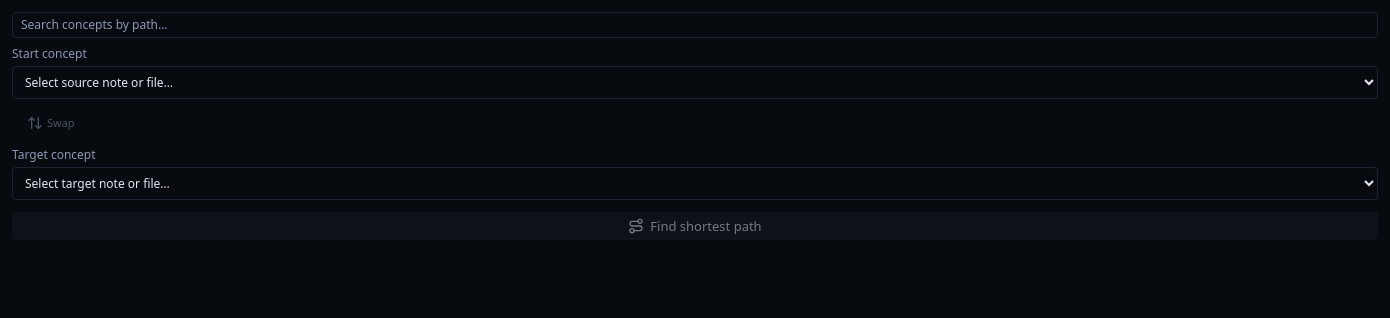
GraphPathfinder › shows empty state when no path connects the concepts
Select "[note] concepts/auth.md" in the dropdown labelled "Start concept" at (695, 82), box [12,66,1378,99]
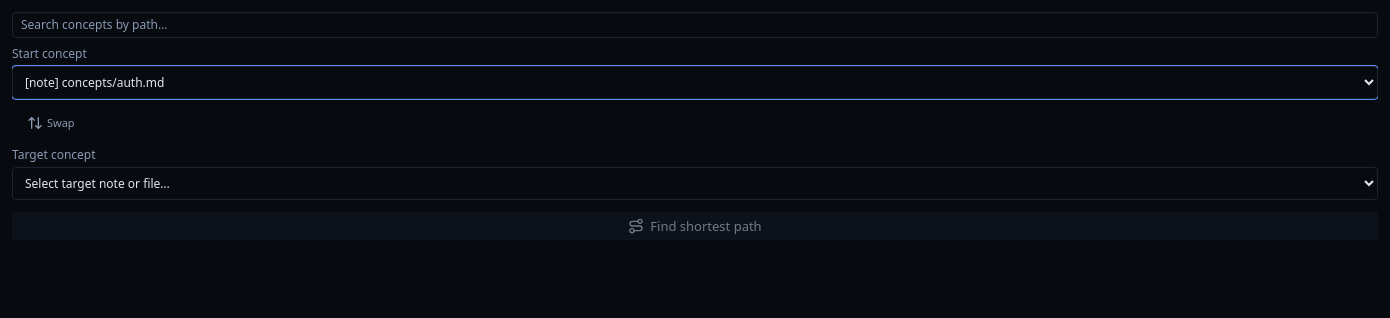
Select "[note] isolated/island.md" in the dropdown labelled "Target concept" at (695, 184), box [12,167,1378,200]
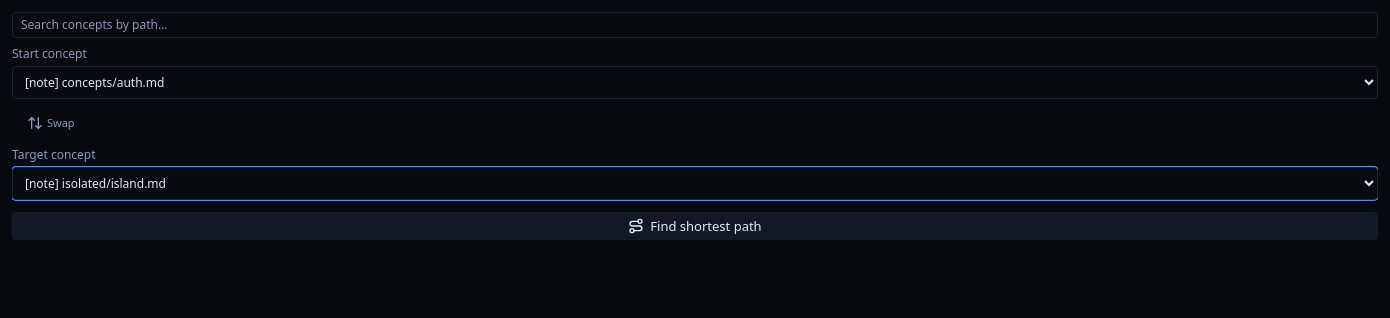
Click the button "Find shortest path" at (695, 226), box [12,212,1378,240]
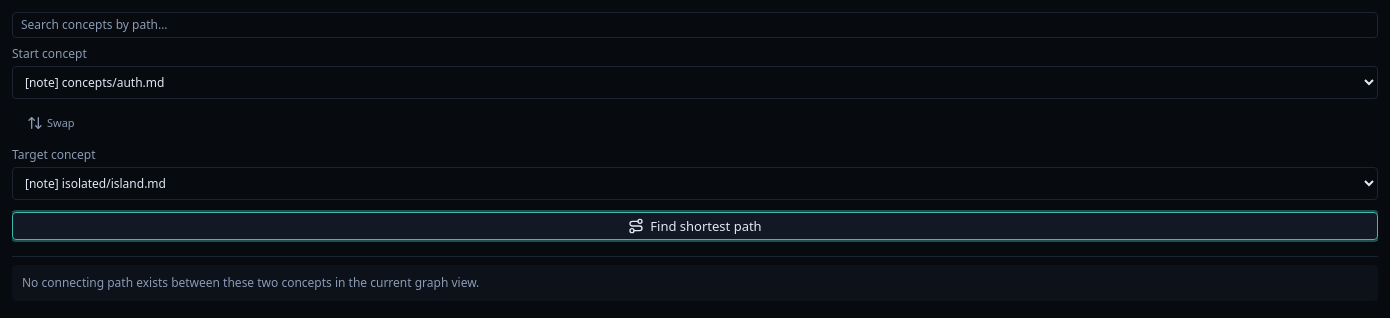
Check: the text "No connecting path exists between these two concepts" is shown, box [22,274,479,291]
